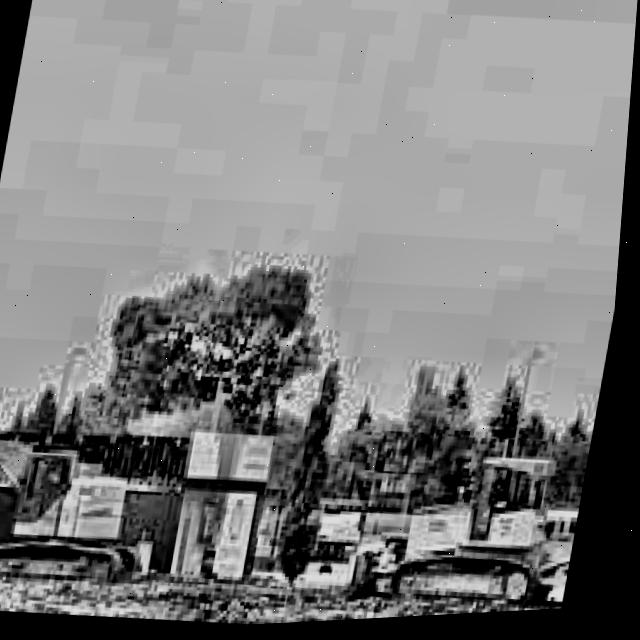buldozerpayloadergrader: (349, 436, 597, 624)
excavator: (0, 425, 172, 611)
